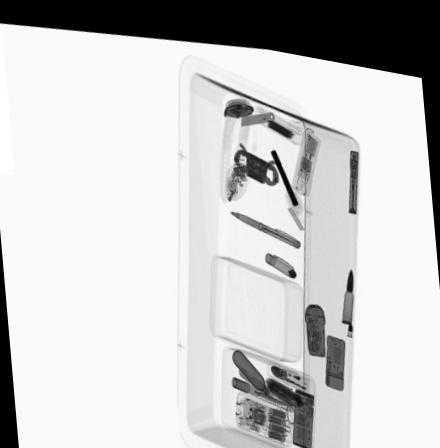Lighter: (267, 349, 310, 383)
